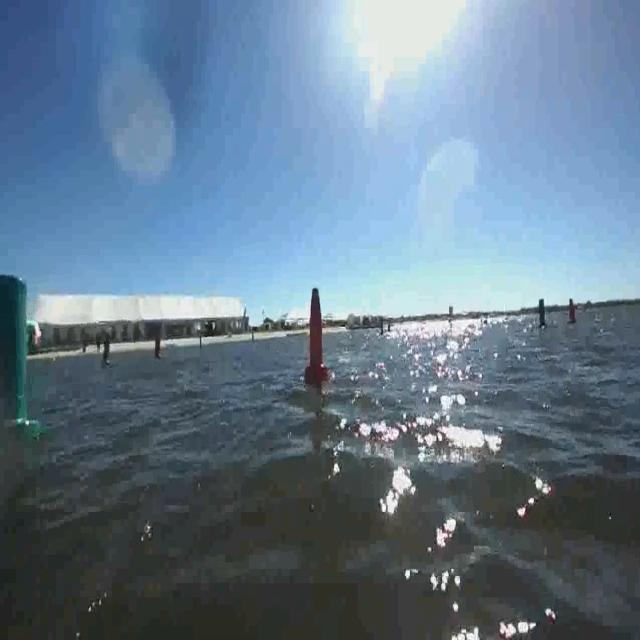green-column-buoy: (0, 271, 38, 433), (536, 298, 548, 329)
red-column-buoy: (304, 284, 330, 382), (567, 296, 577, 324), (152, 335, 162, 361)
